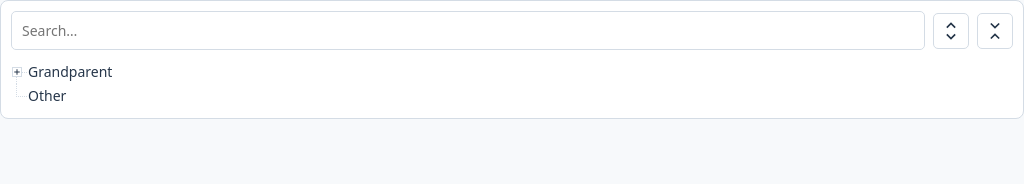
offers search only when enabled and keeps all ancestors of case-insensitive matches
This screenshot has width=1024, height=184.
In the search field named "Search tree": [468, 30] box [11,11,925,50], type " aPpLe "
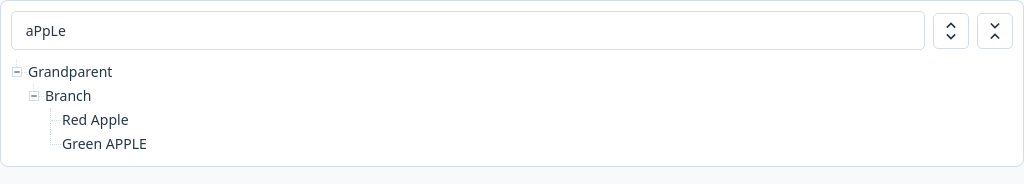
Expected: the text "Branch" is shown, [45,86,92,105]
Expected: the text "Red Apple" is shown, [62,110,128,129]
Expected: the text "Green APPLE" is shown, [62,134,147,153]
Clear the search field: [468, 30] box [11,11,925,50]
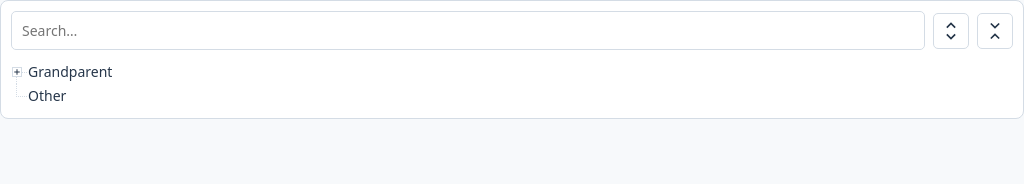
Expected: the button named "Expand all" is shown, [933,12,969,48]
Expected: the text "Other" is shown, [28,86,66,105]
Expected: the button named "Expand Grandparent" is collapsed, [12,67,22,77]
